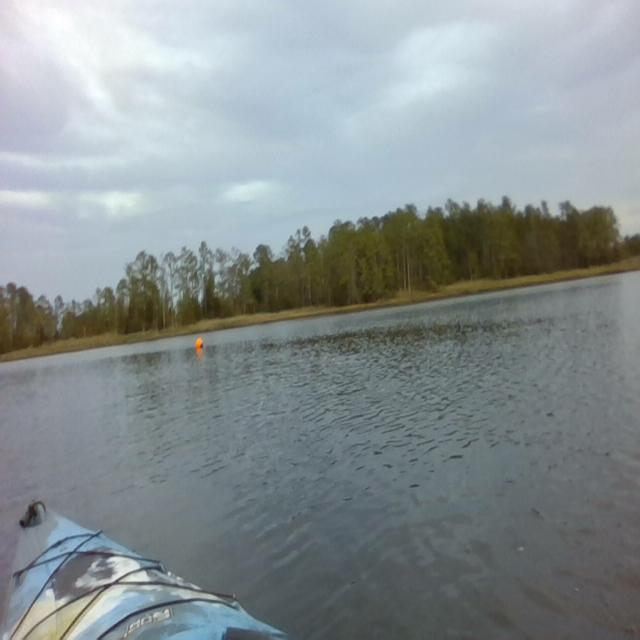Buoy: (194, 336, 204, 352)
